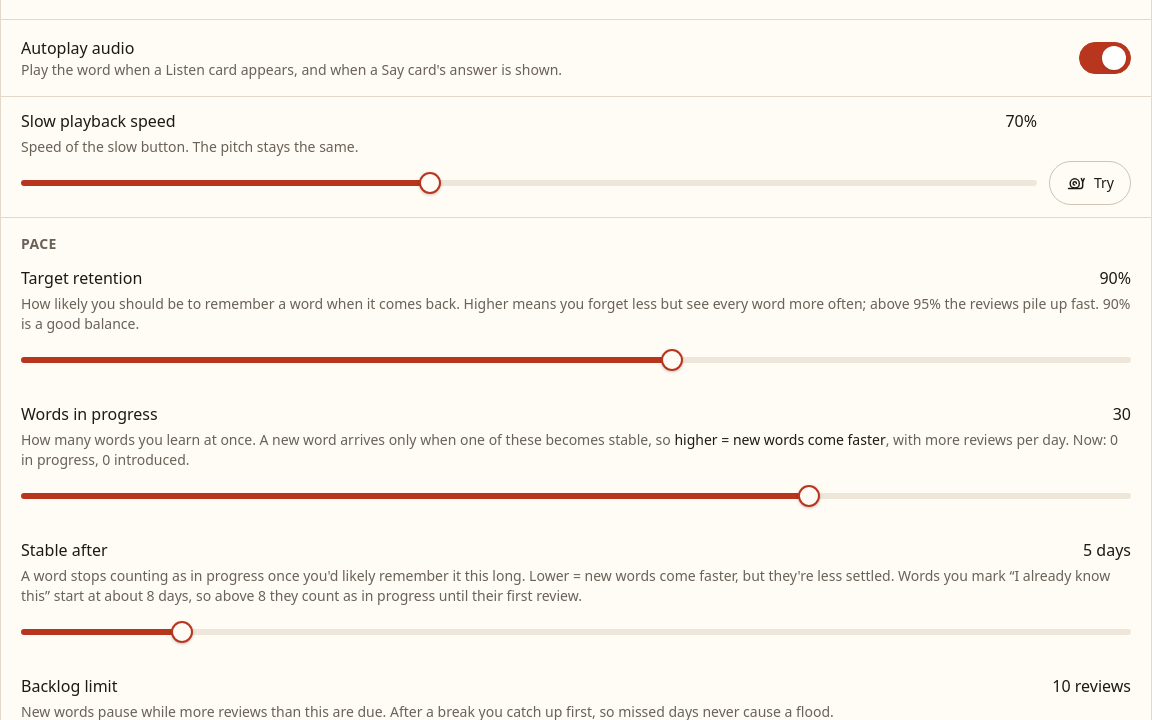
Test: SettingsPage › commits target retention after the slider settles
(page scrolled)
Set the slider labelled "Target retention" to "0.85" at (351, 360), box [21,338,1131,382]
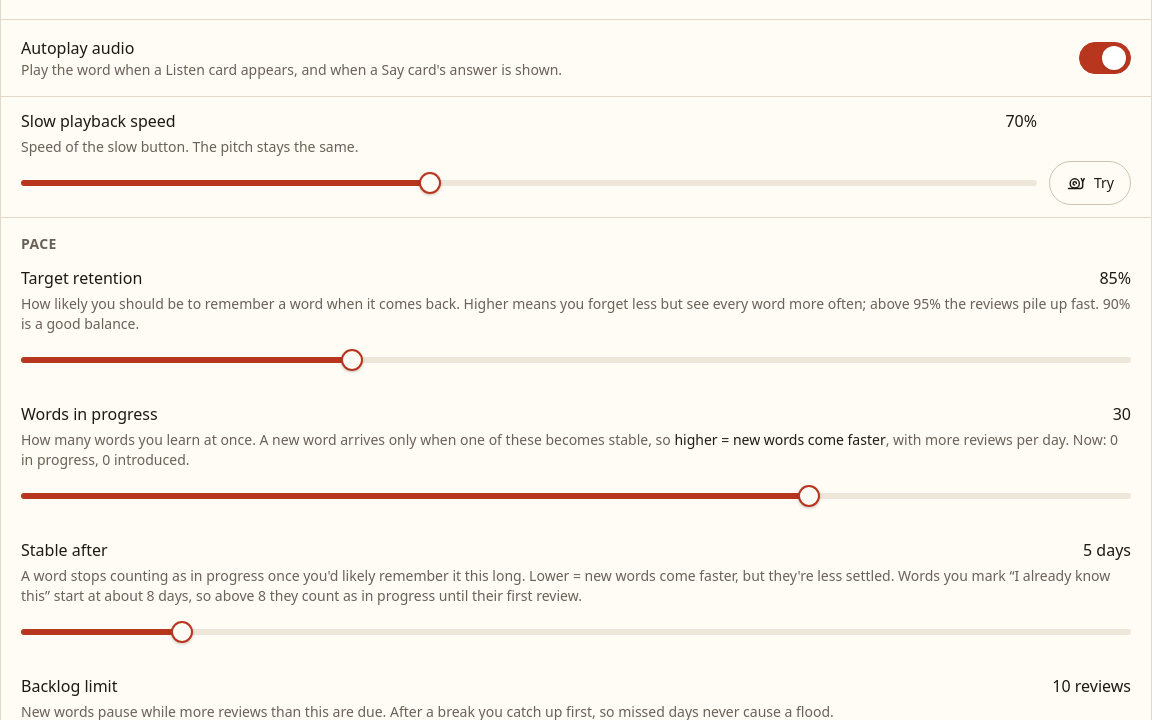
Set the slider labelled "Target retention" to "0.86" at (415, 360), box [21,338,1131,382]
Wait 400 ms
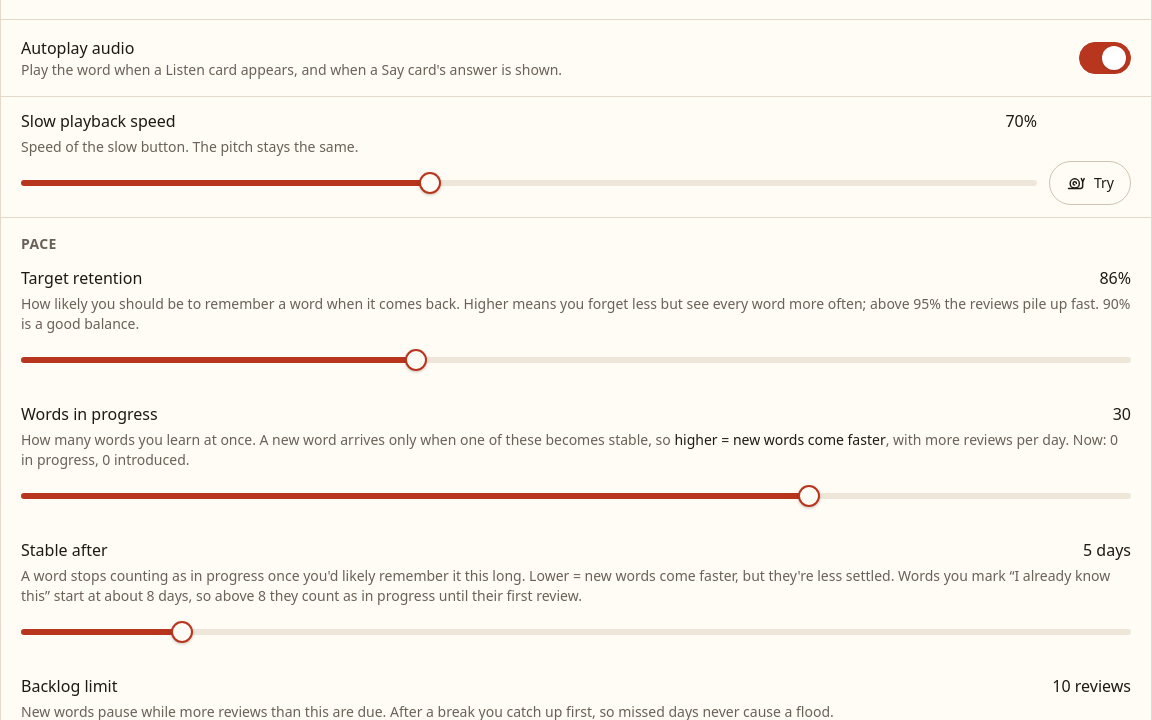
Expected: the text "86%" is shown, [1099,266,1131,290]
